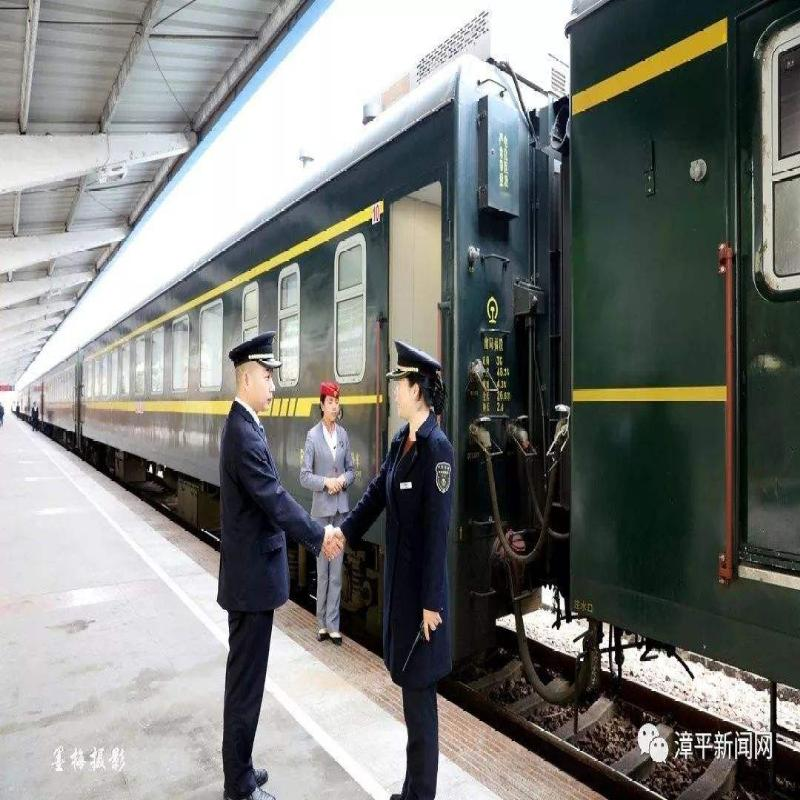train: (57, 266, 205, 477)
